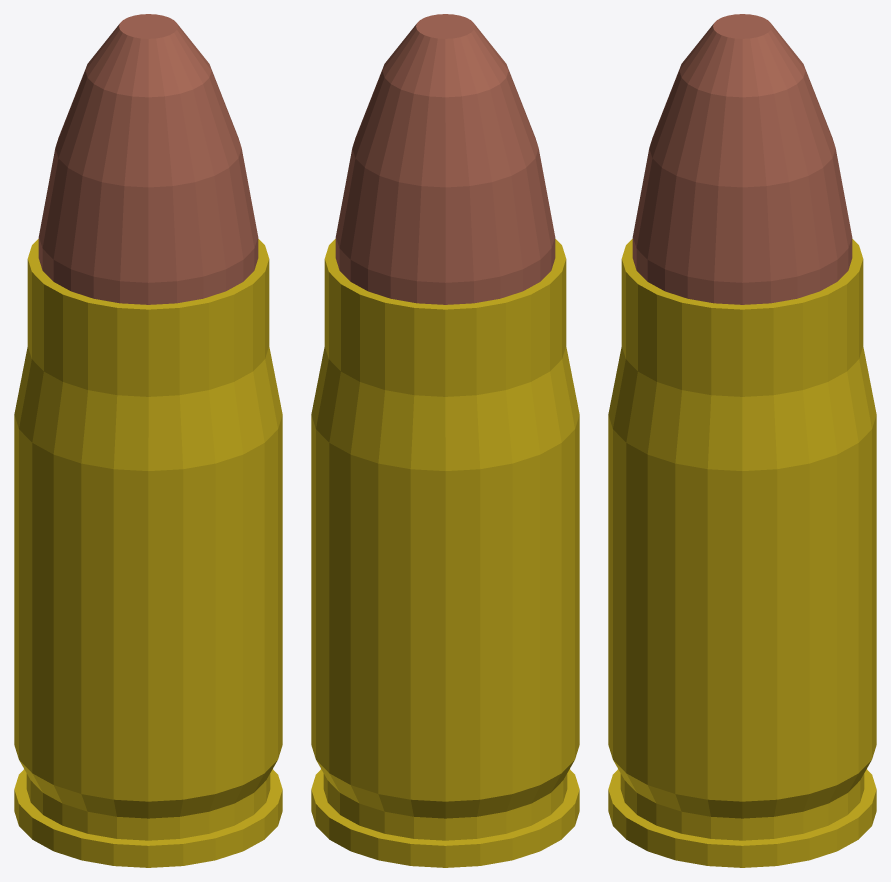
Rendered from ammo_sniper.glb.
The picture shows the model from 3 angles, left to right: view 1: azimuth 30°, elevation 25°; view 2: azimuth 150°, elevation 25°; view 3: azimuth 270°, elevation 25°; orthographic projection.
Parts seen in each view (by area): view 1: Mesh1 Group2 Group1 Model, Mesh2 Group3 Group1 Model; view 2: Mesh1 Group2 Group1 Model, Mesh2 Group3 Group1 Model; view 3: Mesh1 Group2 Group1 Model, Mesh2 Group3 Group1 Model.
Part boxes in pixels (left/top/right/bottom): Mesh1 Group2 Group1 Model: left=14, top=239, right=282, bottom=867; Mesh2 Group3 Group1 Model: left=38, top=14, right=258, bottom=304; Mesh1 Group2 Group1 Model: left=311, top=239, right=579, bottom=867; Mesh2 Group3 Group1 Model: left=335, top=14, right=555, bottom=304; Mesh1 Group2 Group1 Model: left=608, top=239, right=876, bottom=867; Mesh2 Group3 Group1 Model: left=632, top=14, right=852, bottom=304.
Size of the model in its own units: 0.0066 by 0.0213 by 0.0066.
